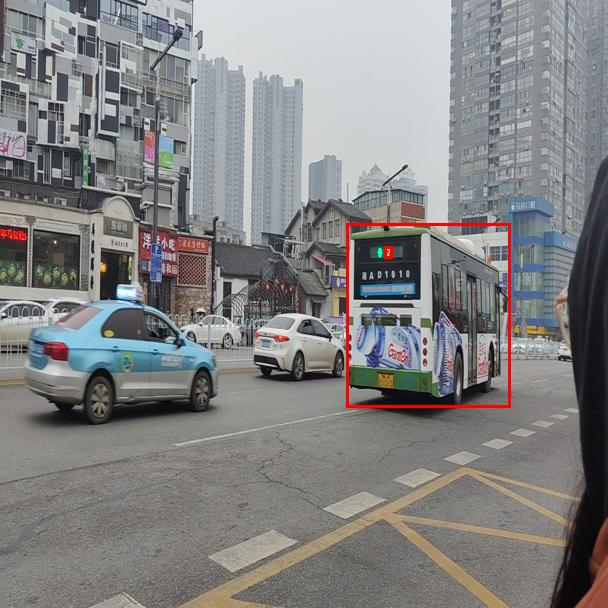bus: (346, 223, 510, 407)
screen: (384, 246, 392, 258)
